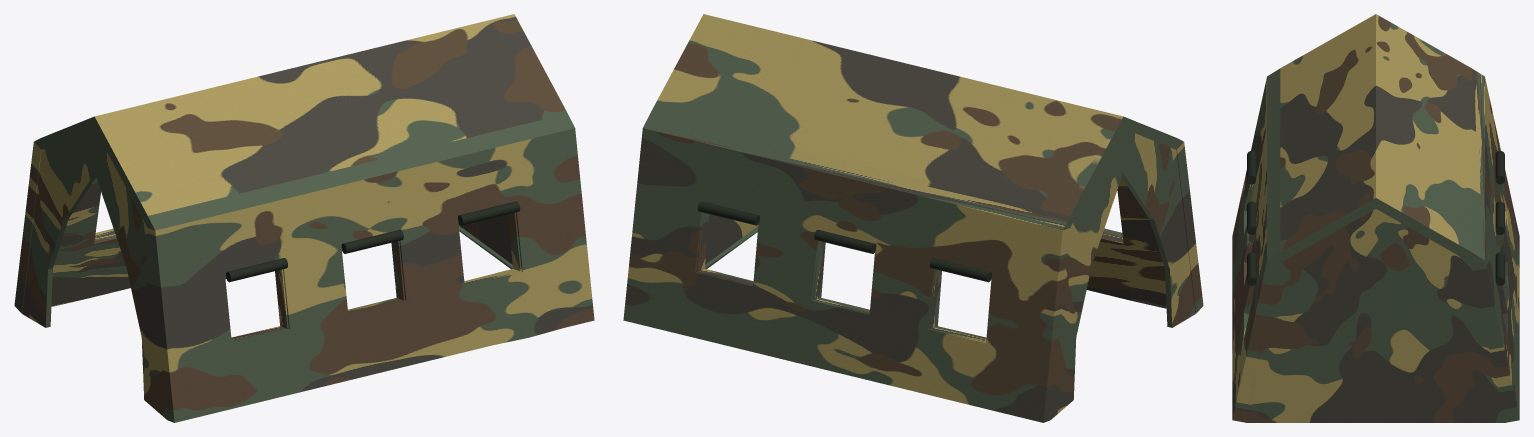
Rendered from tent.fbx.
3 renders of one model, left to right at view 1: azimuth 30°, elevation 25°; view 2: azimuth 150°, elevation 25°; view 3: azimuth 270°, elevation 25°, orthographic. The views are drawn at different scales.
Parts seen in each view (by area): view 1: Cube, Cylinder.001; view 2: Cube, Cylinder.001; view 3: Cube, Cylinder.001.
Part boxes in pixels (<box>): Cube: <box>14,14,594,422</box>; Cylinder.001: <box>226,201,520,282</box>; Cube: <box>623,14,1203,422</box>; Cylinder.001: <box>697,201,991,282</box>; Cube: <box>1232,14,1519,422</box>; Cylinder.001: <box>1247,150,1504,285</box>.
Size of the model in its own units: 397 by 228 by 263.
2 materials, 1 textured.
